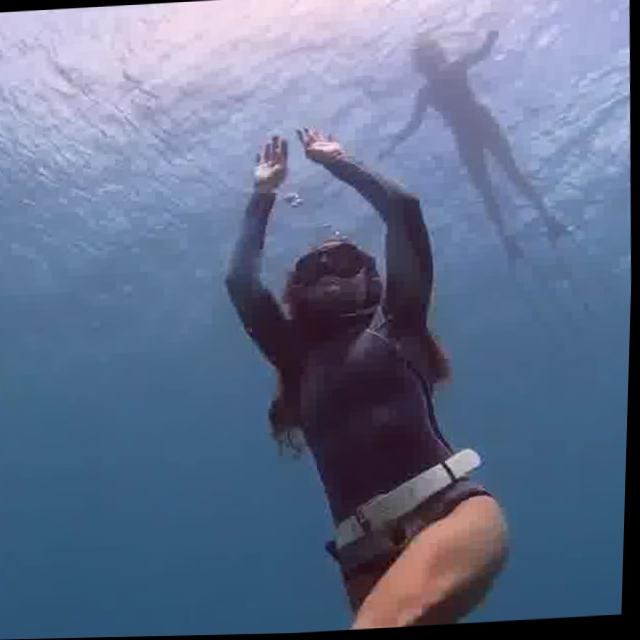human: (200, 110, 539, 636), (367, 17, 592, 255)
